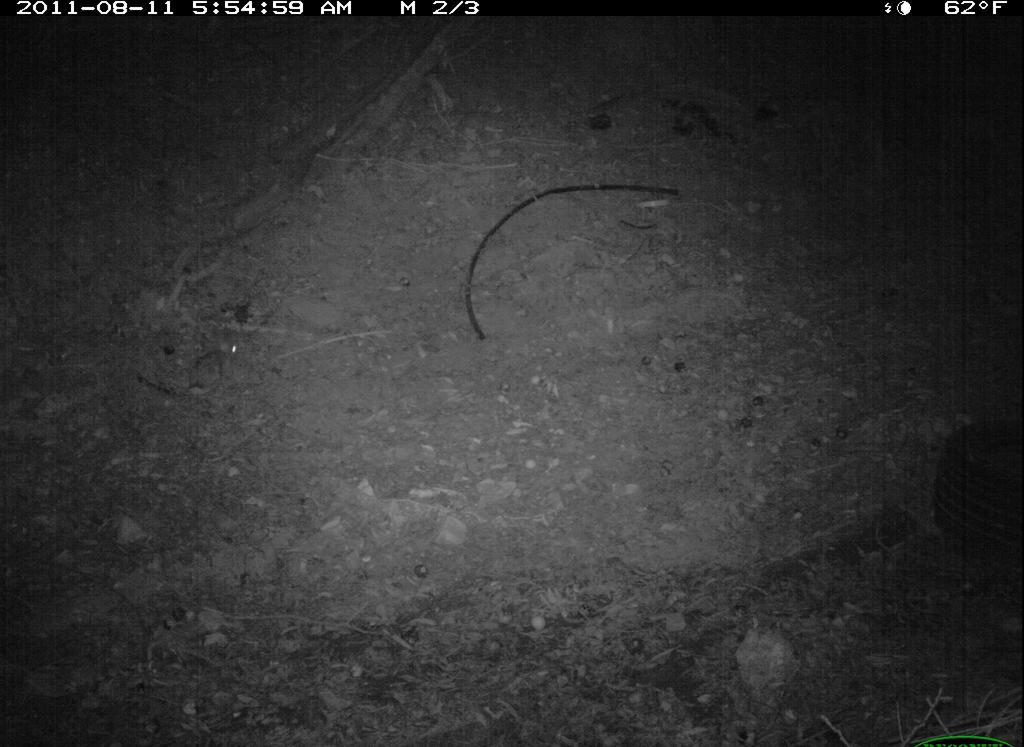rabbit: (173, 321, 254, 411)
